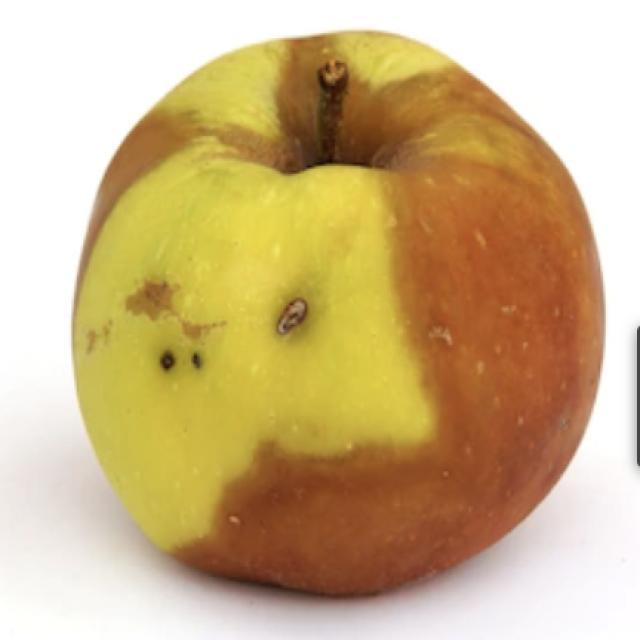Rotten: (62, 25, 605, 603)
